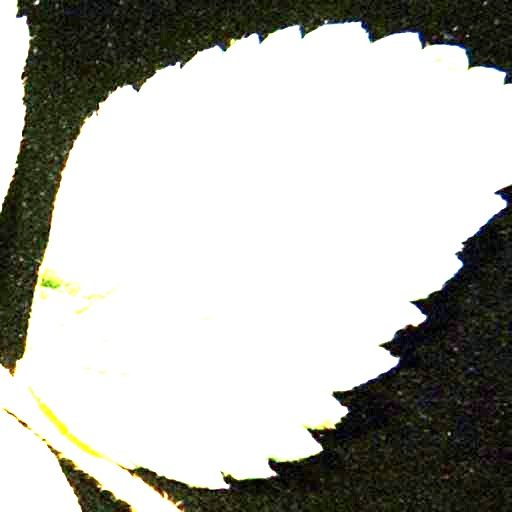Leaf Spot: (20, 22, 511, 489)
